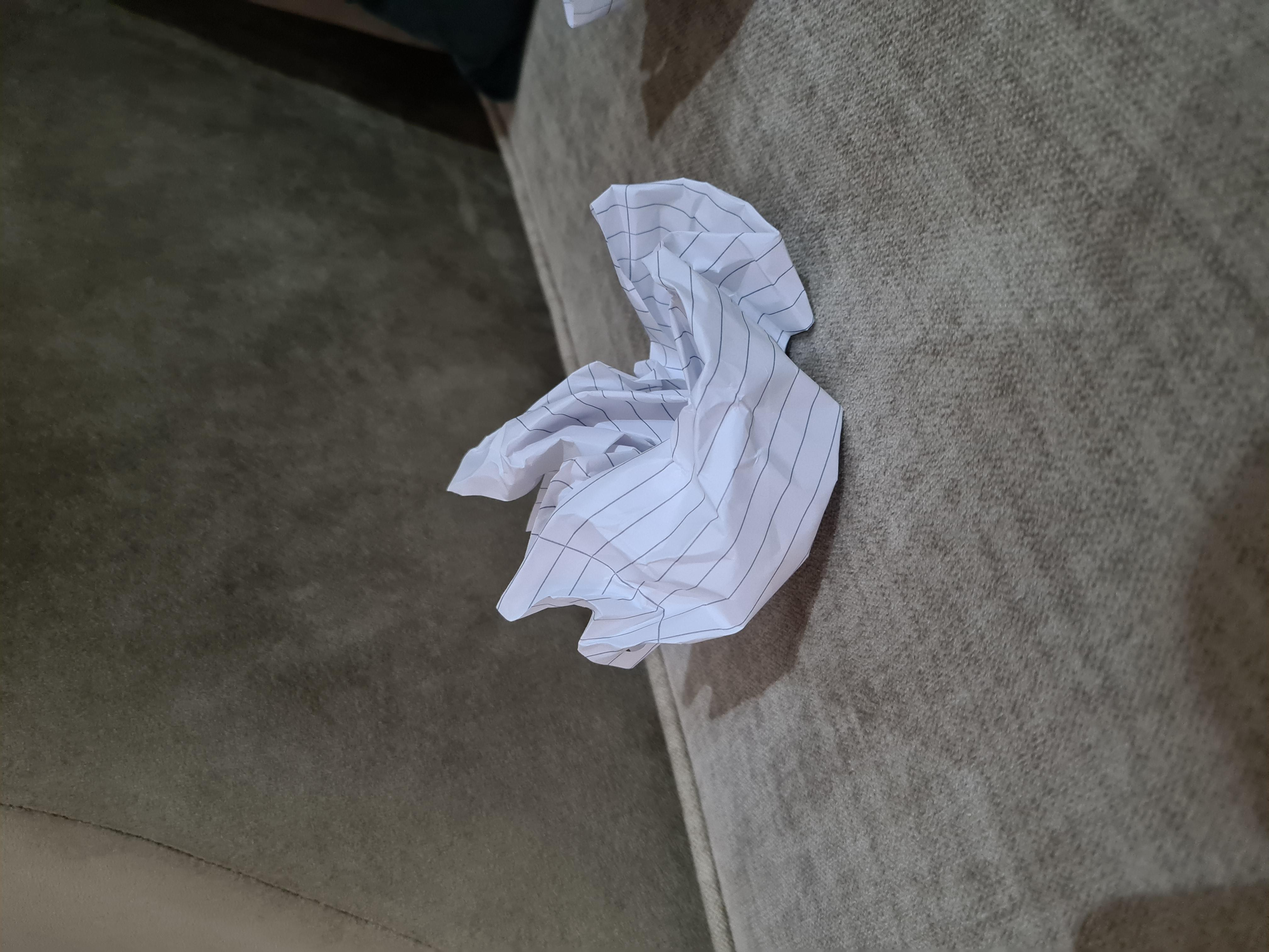paper: (391, 352, 1051, 622)
